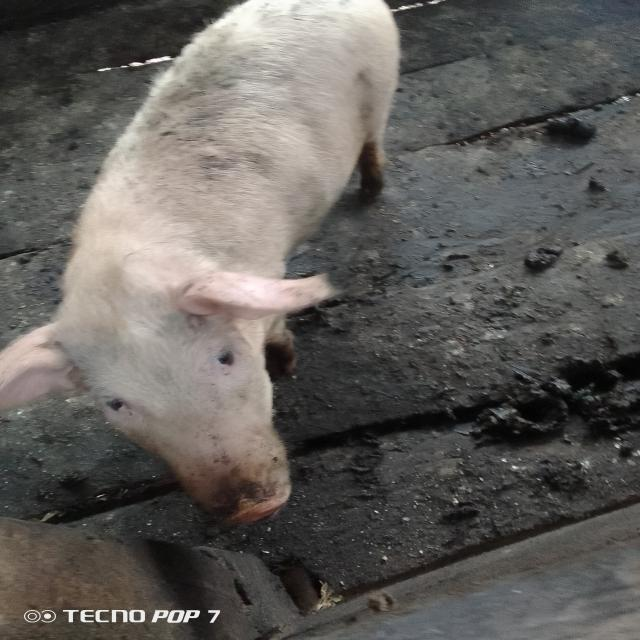pig: (0, 0, 482, 550)
